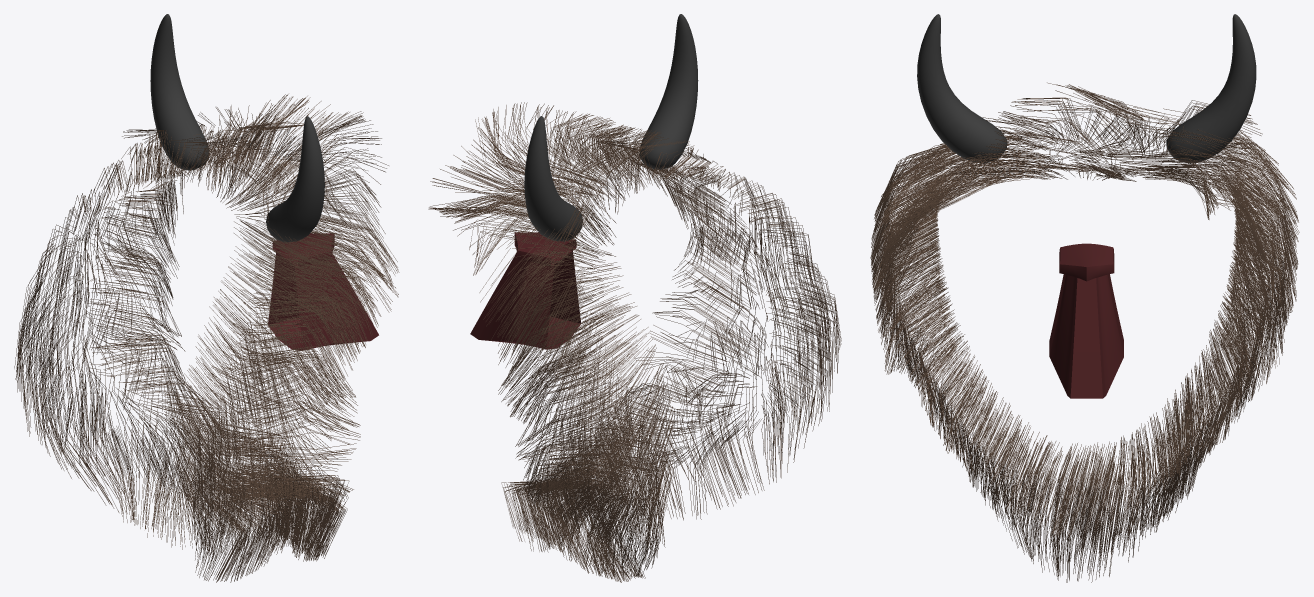
The model's file is Mask3 (2).fbx.
3 views of the same model, side by side, from view 1: azimuth 30°, elevation 25°; view 2: azimuth 150°, elevation 25°; view 3: azimuth 270°, elevation 25° (orthographic). The views are drawn at different scales.
Parts seen in each view (by area): view 1: Mesh.001, Рога, Нос; view 2: Mesh.001, Рога, Нос; view 3: Mesh.001, Рога, Нос.
Part boxes in pixels (x1=…): Mesh.001: x1=14, y1=94, x2=399, y2=582; Рога: x1=150, y1=14, x2=324, y2=242; Нос: x1=268, y1=233, x2=378, y2=350; Mesh.001: x1=428, y1=102, x2=841, y2=582; Рога: x1=524, y1=14, x2=698, y2=241; Нос: x1=470, y1=232, x2=581, y2=349; Mesh.001: x1=870, y1=82, x2=1299, y2=582; Рога: x1=917, y1=14, x2=1256, y2=163; Нос: x1=1049, y1=243, x2=1123, y2=398.
Bounding box in the file's own units: 16.92 × 30.3 × 22.08.
